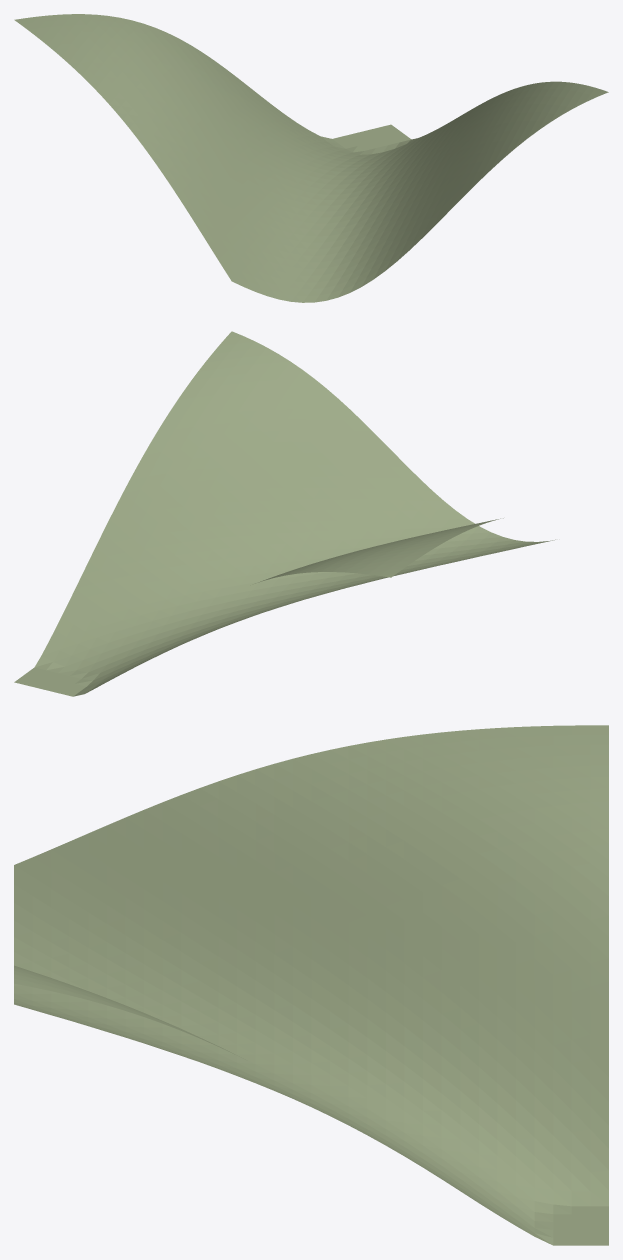
Rendered from expanse-12-15.glb.
3 views of the same model, one above another, from view 1: azimuth 30°, elevation 25°; view 2: azimuth 150°, elevation 25°; view 3: azimuth 270°, elevation 25° (orthographic). The views are drawn at different scales.
Visible parts, largest first — view 1: expanse-12-15; view 2: expanse-12-15; view 3: expanse-12-15.
Boxes of the visible parts, left/top/right/bottom form: expanse-12-15: left=14, top=14, right=608, bottom=302; expanse-12-15: left=14, top=331, right=555, bottom=696; expanse-12-15: left=14, top=725, right=608, bottom=1245.
Bounding box in the file's own units: 256 × 128 × 256.
